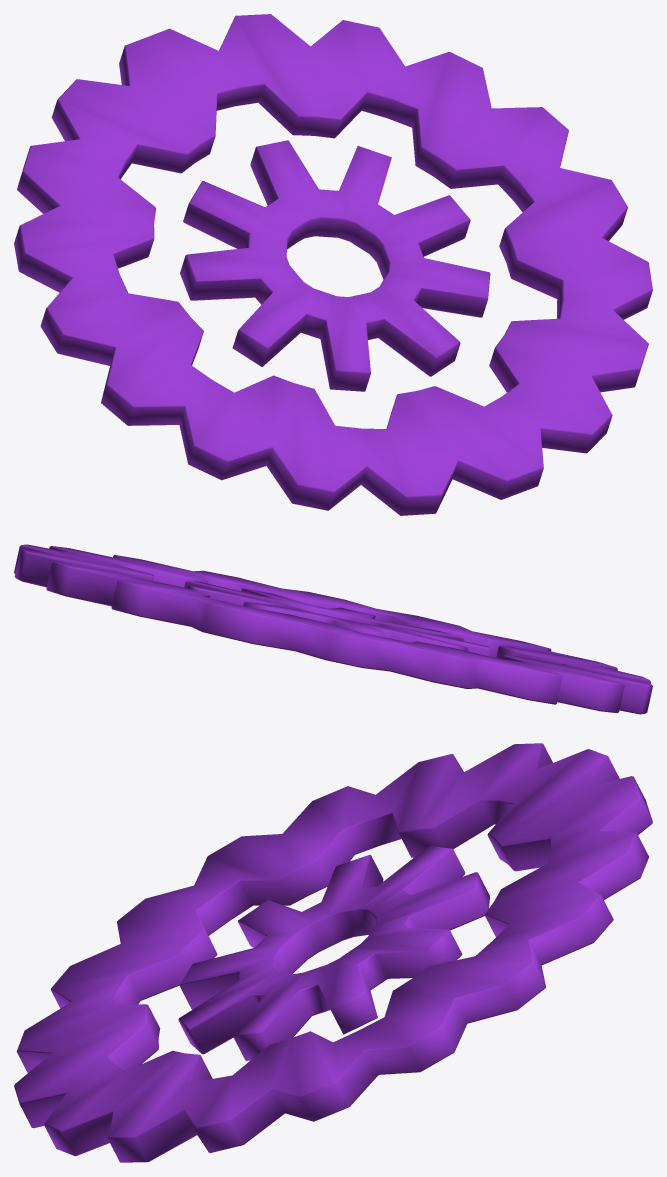
The model's file is engrenage2.FBX.
The picture shows the model from 3 angles, top to bottom: view 1: azimuth 30°, elevation 25°; view 2: azimuth 150°, elevation 25°; view 3: azimuth 270°, elevation 25°; orthographic projection. The views are drawn at different scales.
Parts seen in each view (by area): view 1: g_engrenage2_engrenage2; view 2: g_engrenage2_engrenage2; view 3: g_engrenage2_engrenage2.
Part boxes in pixels (box(x1,y1,x2,y2)): g_engrenage2_engrenage2: box(14, 14, 652, 515); g_engrenage2_engrenage2: box(14, 544, 652, 714); g_engrenage2_engrenage2: box(14, 743, 652, 1162).
Bounding box in the file's own units: 15.39 × 7.14 × 14.26.
